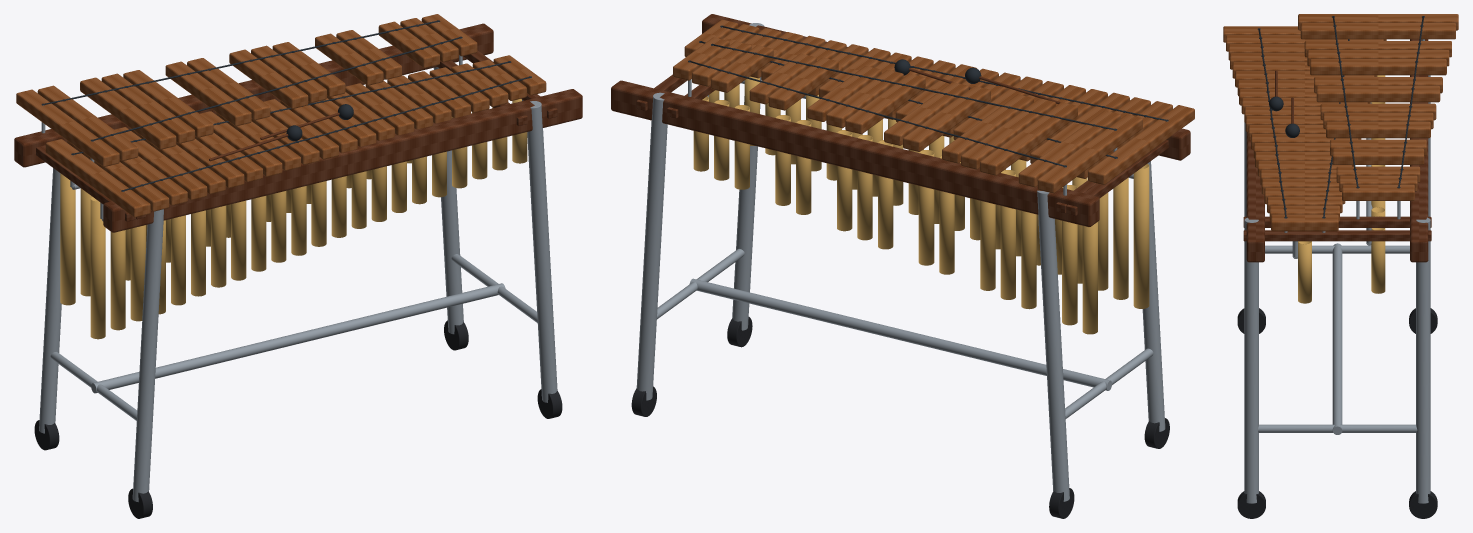
File: Xylophone.glb
3 renders of one model, left to right at view 1: azimuth 30°, elevation 25°; view 2: azimuth 150°, elevation 25°; view 3: azimuth 270°, elevation 25°, orthographic. The views are drawn at different scales.
Parts seen in each view (by area): view 1: Xylophone frame rail, Xylophone stand leg.002, Xylophone stand leg, Stand lower stretcher, Xylophone frame rail.001, Xylophone stand leg.001, Tuned rosewood bar 00, Tuned rosewood bar 01, Xylophone stand leg.003, Tuned rosewood bar 06, Open resonator 00, Open resonator 01 (+58 smaller); view 2: Xylophone frame rail.001, Xylophone stand leg.001, Xylophone stand leg.003, Stand lower stretcher, Xylophone stand leg, Tuned rosewood bar 00, Tuned rosewood bar 01, Xylophone stand leg.002, Open resonator 00, Tuned rosewood bar 06, Tuned rosewood bar 13, Tuned rosewood bar 03 (+42 smaller); view 3: Xylophone stand leg.003, Xylophone stand leg.002, Tuned rosewood bar 03, Tuned rosewood bar 10, Tuned rosewood bar 15, Stand lower stretcher, Xylophone frame rail, Tuned rosewood bar 22, Xylophone frame rail.001, Natural frame end crossmember.001, Tuned rosewood bar 27, Tuned rosewood bar 01 (+43 smaller).
Boxes of the visible parts, x1,y1,x2,y2 form: Xylophone frame rail: [103, 89, 582, 232]; Xylophone stand leg.002: [527, 101, 557, 402]; Xylophone stand leg: [132, 209, 163, 502]; Stand lower stretcher: [91, 283, 505, 393]; Xylophone frame rail.001: [14, 23, 493, 167]; Xylophone stand leg.001: [39, 168, 61, 433]; Tuned rosewood bar 00: [45, 139, 150, 217]; Tuned rosewood bar 01: [16, 89, 119, 166]; Xylophone stand leg.003: [433, 67, 463, 334]; Tuned rosewood bar 06: [80, 77, 176, 149]; Open resonator 00: [90, 196, 105, 339]; Open resonator 01: [60, 173, 75, 305]; Xylophone frame rail.001: [611, 80, 1099, 226]; Xylophone stand leg.001: [1037, 190, 1069, 501]; Xylophone stand leg.003: [636, 92, 667, 400]; Stand lower stretcher: [689, 278, 1111, 390]; Xylophone stand leg: [1142, 161, 1165, 431]; Tuned rosewood bar 00: [1088, 105, 1194, 184]; Tuned rosewood bar 01: [1037, 114, 1142, 193]; Xylophone stand leg.002: [732, 23, 764, 330]; Open resonator 00: [1133, 163, 1149, 308]; Tuned rosewood bar 06: [980, 102, 1077, 175]; Tuned rosewood bar 13: [903, 86, 990, 151]; Tuned rosewood bar 03: [1018, 110, 1120, 187]; Xylophone stand leg.003: [1416, 217, 1430, 503]; Xylophone stand leg.002: [1244, 217, 1258, 503]; Tuned rosewood bar 03: [1300, 23, 1455, 39]; Tuned rosewood bar 10: [1310, 59, 1446, 75]; Tuned rosewood bar 15: [1316, 85, 1440, 102]; Stand lower stretcher: [1332, 243, 1342, 434]; Xylophone frame rail: [1246, 132, 1264, 262]; Tuned rosewood bar 22: [1326, 121, 1430, 138]; Xylophone frame rail.001: [1410, 39, 1428, 262]; Natural frame end crossmember.001: [1243, 230, 1431, 241]; Tuned rosewood bar 27: [1332, 148, 1424, 164]; Tuned rosewood bar 01: [1298, 14, 1458, 30].
Bounding box in the file's own units: 1.22 × 0.854 × 0.5768.
6 materials, 6 textured.
